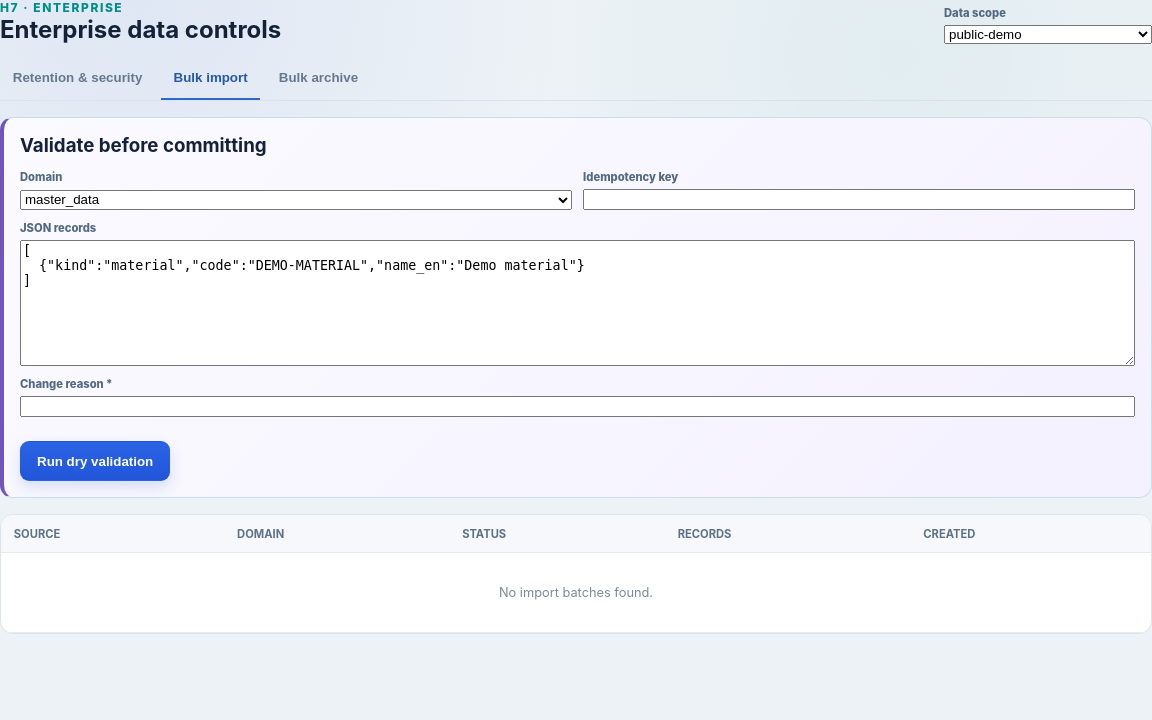
EnterpriseHistoryWorkspace › offers dry-run then commit for governed bulk import
Type "batch-key-1" into the field labelled "Idempotency key" at [859, 199], box [583, 189, 1135, 210]
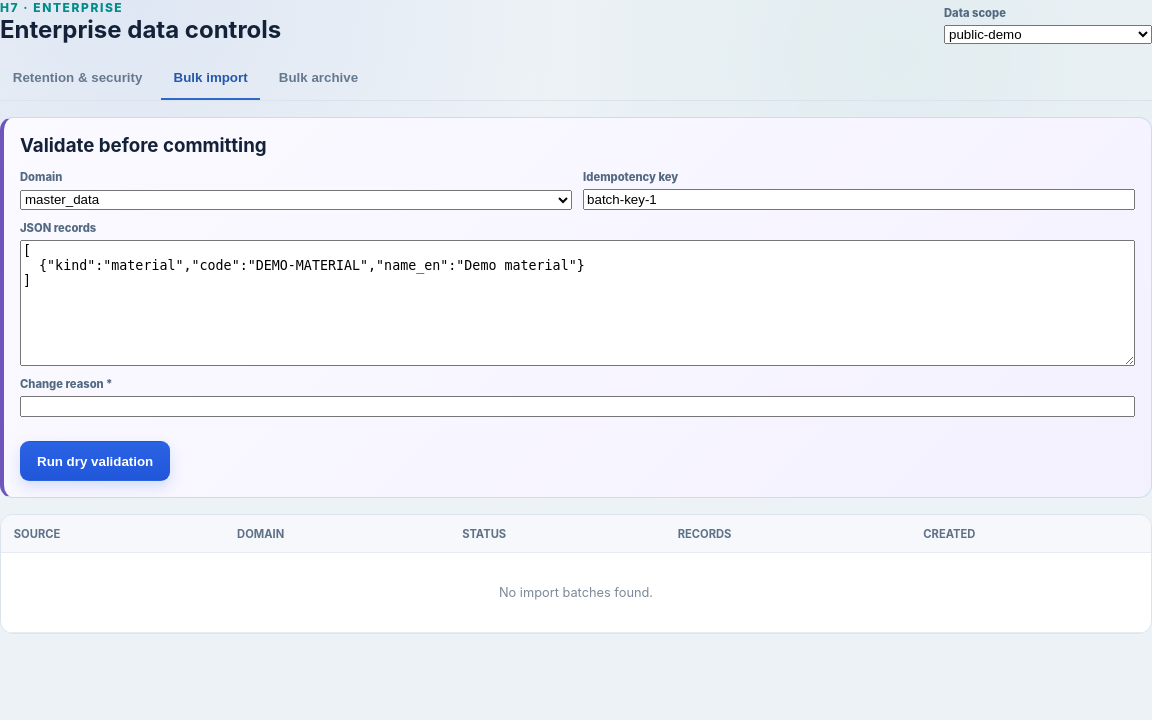
Click the button "Run dry validation" at [95, 461], box [20, 441, 170, 481]
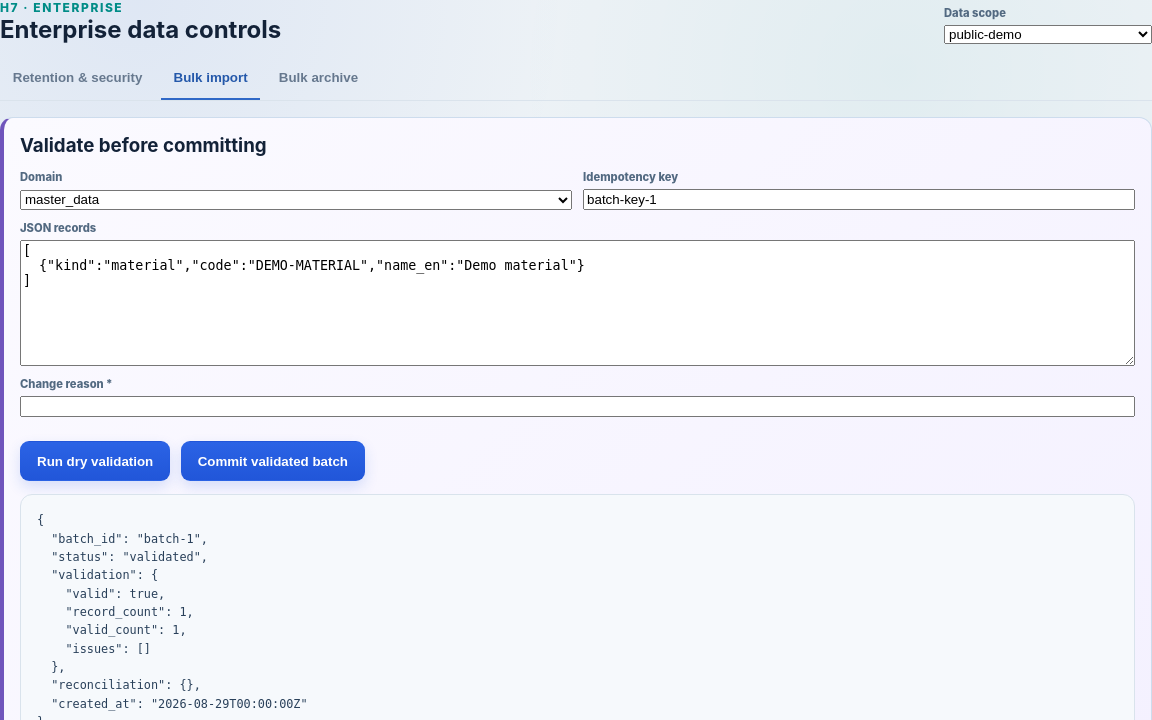
Expected: the text "Commit validated batch" is shown, [181, 441, 365, 481]
